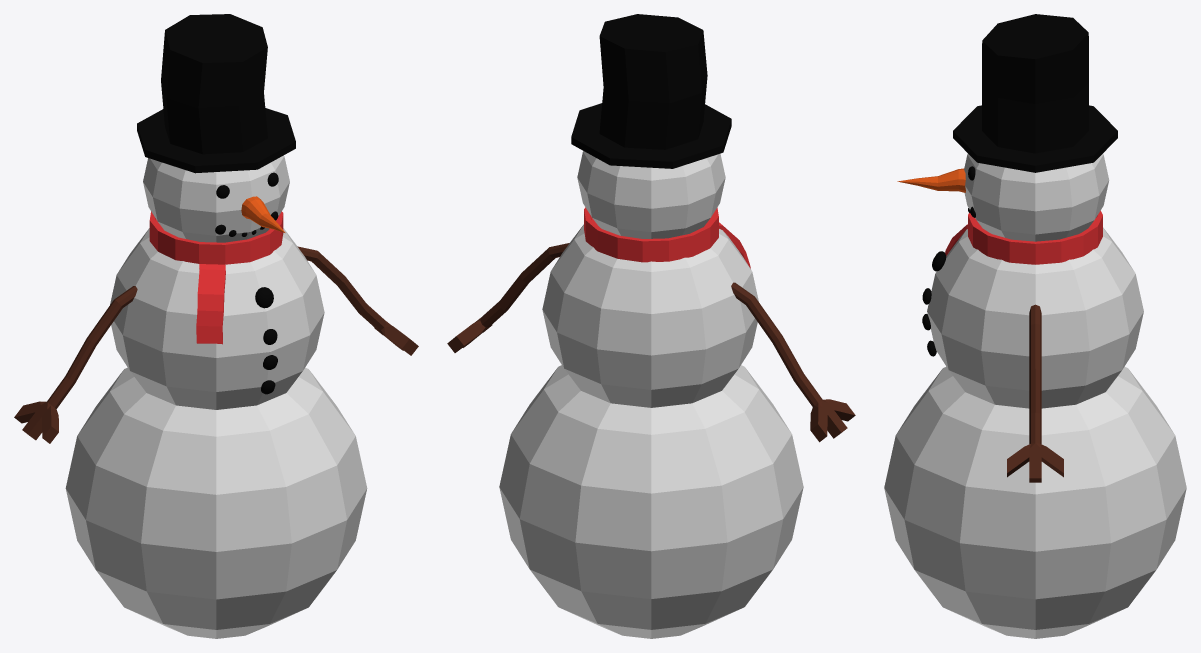
Rendered from snowman.fbx.
The picture shows the model from 3 angles, left to right: view 1: azimuth 30°, elevation 25°; view 2: azimuth 150°, elevation 25°; view 3: azimuth 270°, elevation 25°; orthographic projection.
Visible parts, largest first — view 1: cнеговик_lp; view 2: cнеговик_lp; view 3: cнеговик_lp.
Boxes of the visible parts, left/top/right/bottom form: cнеговик_lp: left=14, top=14, right=418, bottom=638; cнеговик_lp: left=447, top=14, right=855, bottom=638; cнеговик_lp: left=884, top=14, right=1186, bottom=638.
Size of the model in its own units: 138 by 204 by 94.34.
